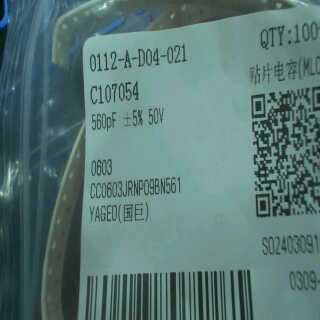560pF: (87, 108, 124, 133)
